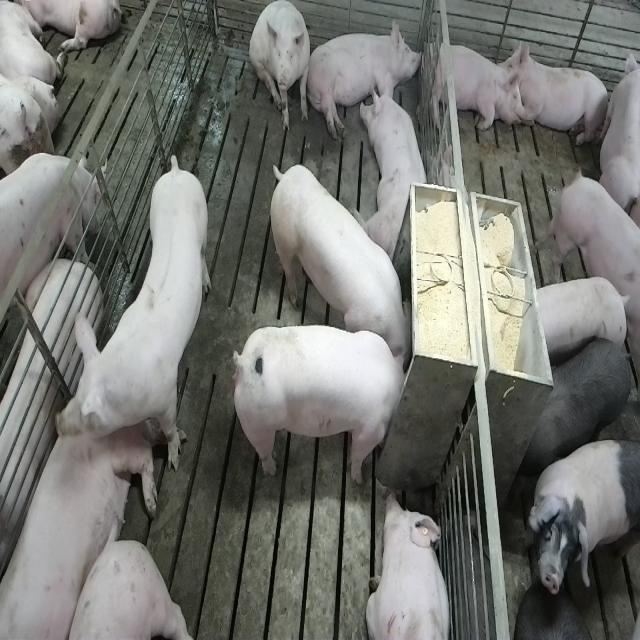Feeding: (265, 160, 412, 366), (228, 322, 408, 484)
Lateral_lying: (306, 15, 424, 141)
Sitting: (250, 2, 312, 134)
Standing: (52, 157, 212, 483), (547, 162, 640, 384), (0, 155, 100, 348), (523, 436, 636, 592), (520, 336, 637, 482), (532, 276, 630, 359)
Sternal_lying: (0, 360, 151, 635), (362, 72, 433, 260), (365, 489, 453, 640), (509, 41, 612, 150), (424, 36, 526, 138)
